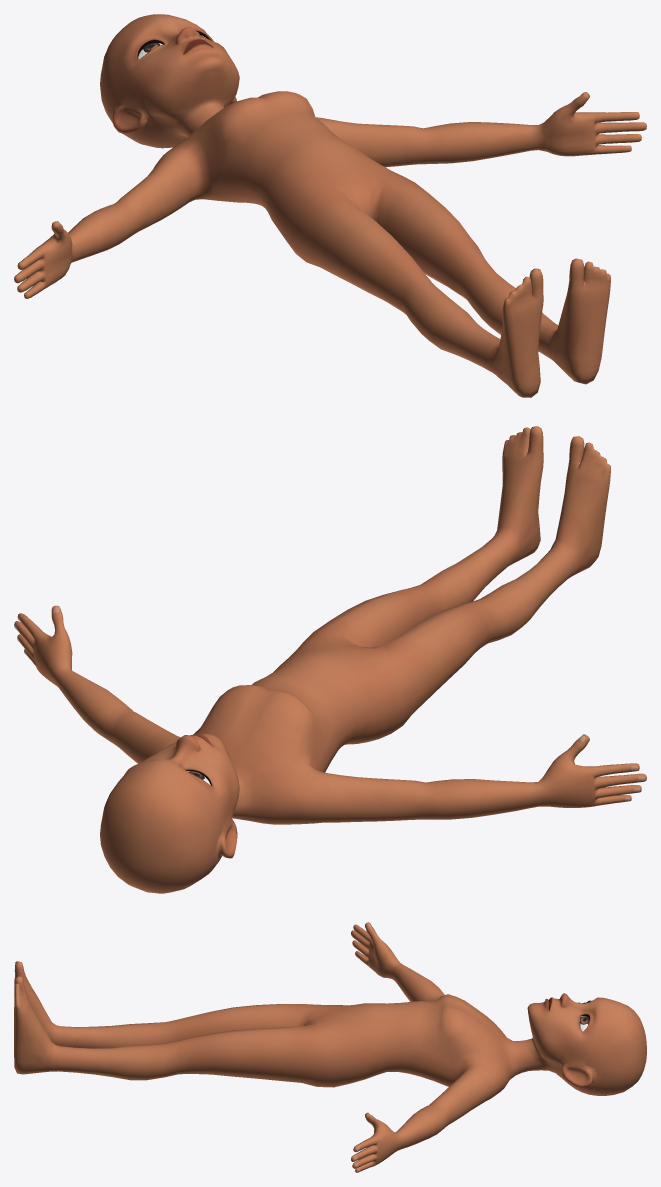
The model's file is frame_0004.glb.
3 views of the same model, one above another, from view 1: azimuth 30°, elevation 25°; view 2: azimuth 150°, elevation 25°; view 3: azimuth 270°, elevation 25° (orthographic). The views are drawn at different scales.
Parts seen in each view (by area): view 1: head_geo_frozen; view 2: head_geo_frozen; view 3: head_geo_frozen.
Boxes of the visible parts, left/top/right/bottom form: head_geo_frozen: left=14, top=14, right=646, bottom=397; head_geo_frozen: left=14, top=426, right=646, bottom=893; head_geo_frozen: left=14, top=922, right=646, bottom=1172.
Size of the model in its own units: 128 by 32.33 by 150.
4 materials, 4 textured.
